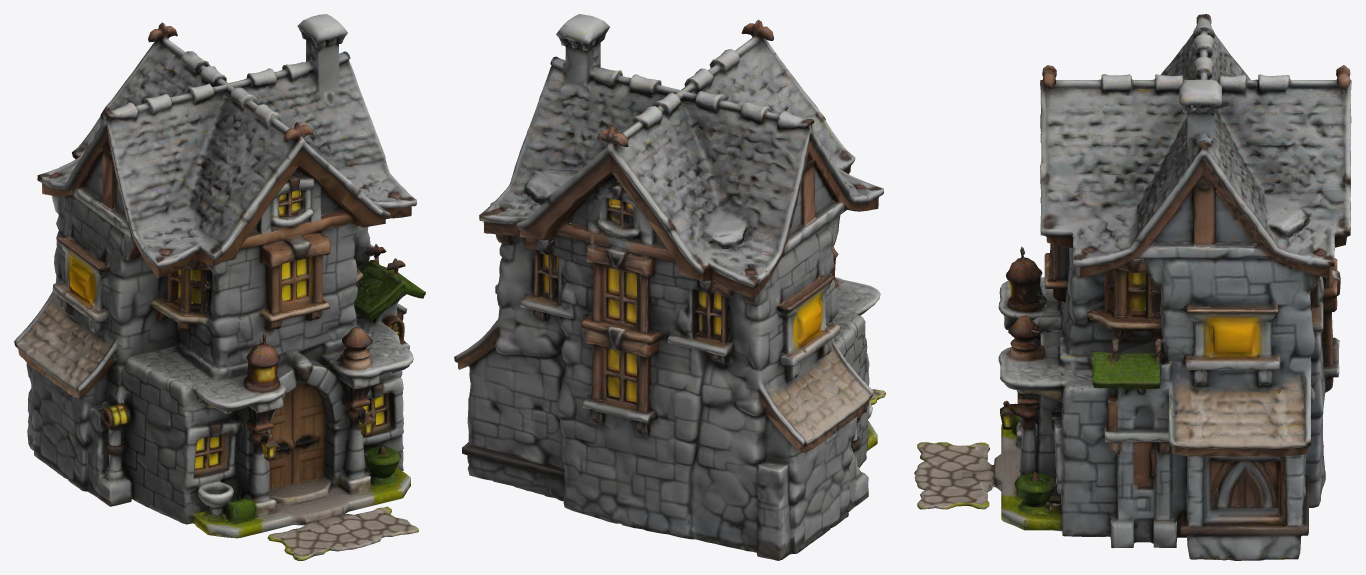
The model's file is Dwarven Building #14_final.glb.
3 views of the same model, side by side, from view 1: azimuth 30°, elevation 25°; view 2: azimuth 150°, elevation 25°; view 3: azimuth 270°, elevation 25° (orthographic). The views are drawn at different scales.
Bounding box in the file's own units: 1.61 × 1.91 × 1.72.
1 material, 1 textured.
